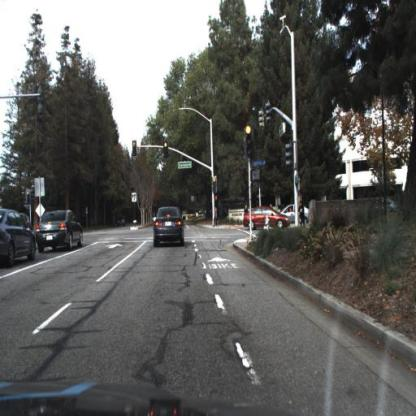car: (1, 206, 38, 266), (36, 209, 85, 254), (152, 203, 185, 248), (242, 207, 291, 228), (282, 204, 310, 223)
pedestrian: (297, 188, 307, 231), (298, 199, 307, 228), (213, 206, 219, 231)
trafficLight-Red: (244, 124, 254, 160), (247, 126, 252, 152), (212, 176, 217, 192), (164, 143, 169, 157), (27, 191, 32, 203)
trafficLight-RedLeft: (132, 141, 139, 159), (133, 140, 139, 154)
